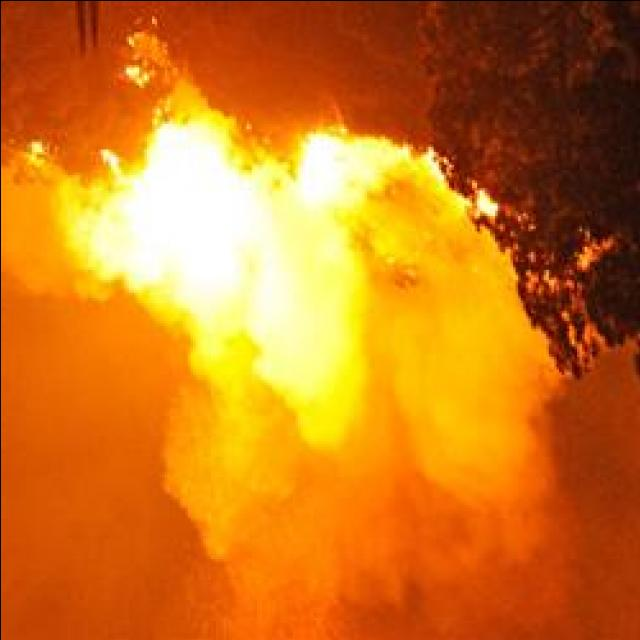fire: (152, 134, 230, 218), (173, 188, 237, 284), (212, 188, 264, 246), (108, 223, 168, 270), (302, 134, 348, 192), (253, 268, 289, 333), (476, 192, 496, 216)
smoke: (250, 474, 442, 606), (398, 361, 550, 517), (147, 395, 279, 574), (376, 220, 515, 384), (227, 325, 371, 445), (2, 182, 120, 296), (136, 294, 243, 372)
